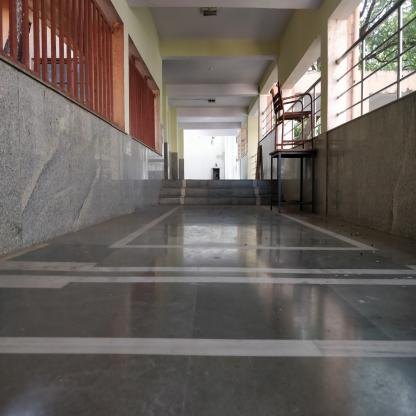stairs: (163, 179, 269, 207)
